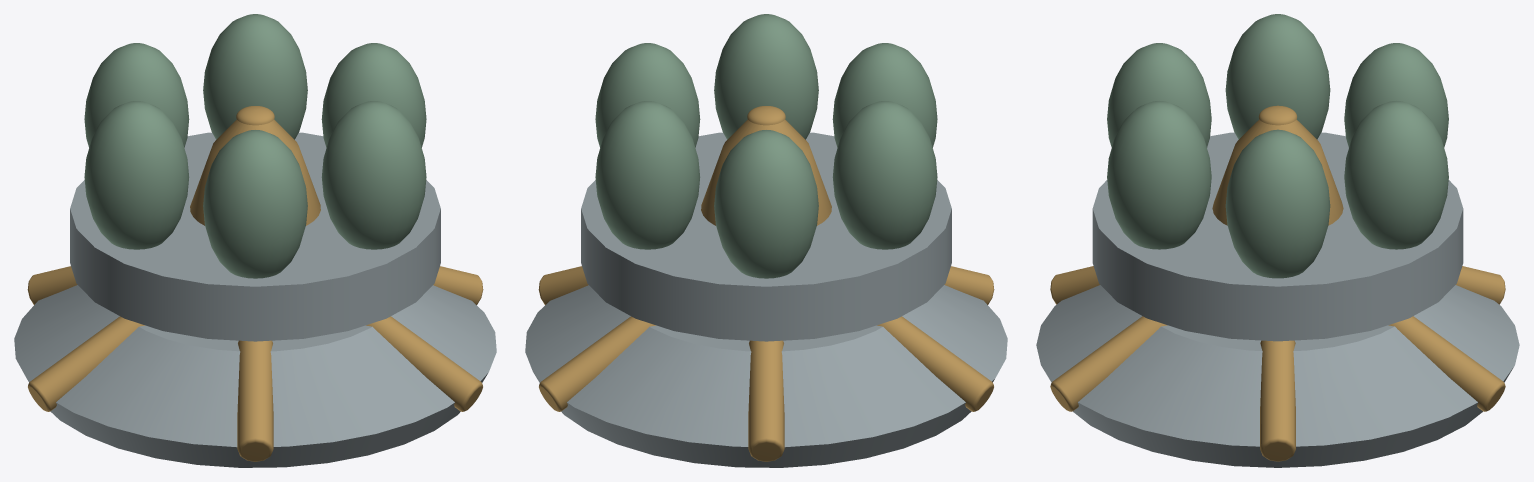
3 renders of one model, left to right at view 1: azimuth 30°, elevation 25°; view 2: azimuth 150°, elevation 25°; view 3: azimuth 270°, elevation 25°, orthographic.
Visible parts, largest first — view 1: Reactor flared base, Reactor raised deck, Reactor cooling vessel.004, Reactor cooling vessel.003, Reactor cooling vessel.005, Reactor cooling vessel.001, Reactor cooling vessel, Reactor cooling vessel.002, Reactor radial conduit.004, Reactor radial conduit.003, Reactor radial conduit.005, Bulb shaped chamber (+3 smaller); view 2: Reactor flared base, Reactor raised deck, Reactor cooling vessel.002, Reactor cooling vessel.001, Reactor cooling vessel.003, Reactor cooling vessel.005, Reactor cooling vessel, Reactor cooling vessel.004, Reactor radial conduit.002, Reactor radial conduit.003, Reactor radial conduit.001, Bulb shaped chamber (+3 smaller); view 3: Reactor flared base, Reactor raised deck, Reactor cooling vessel.001, Reactor cooling vessel.005, Reactor cooling vessel, Reactor cooling vessel.003, Reactor cooling vessel.002, Reactor cooling vessel.004, Reactor radial conduit, Reactor radial conduit.001, Reactor radial conduit.005, Bulb shaped chamber (+3 smaller).
Part boxes in pixels (x1,y1,x2,y2): Reactor flared base: (14,285,496,467); Reactor raised deck: (70,132,440,341); Reactor cooling vessel.004: (203,130,307,278); Reactor cooling vessel.003: (84,101,189,249); Reactor cooling vessel.005: (321,101,426,249); Reactor cooling vessel.001: (203,14,307,139); Reactor cooling vessel: (321,43,426,147); Reactor cooling vessel.002: (84,43,189,147); Reactor radial conduit.004: (237,340,273,461); Reactor radial conduit.003: (28,316,144,411); Reactor radial conduit.005: (366,316,482,411); Bulb shaped chamber: (190,119,320,225); Reactor flared base: (525,285,1007,467); Reactor raised deck: (581,132,951,341); Reactor cooling vessel.002: (714,130,818,278); Reactor cooling vessel.001: (595,101,700,249); Reactor cooling vessel.003: (832,101,937,249); Reactor cooling vessel.005: (714,14,818,139); Reactor cooling vessel: (595,43,700,147); Reactor cooling vessel.004: (832,43,937,147); Reactor radial conduit.002: (748,340,784,461); Reactor radial conduit.003: (877,316,993,411); Reactor radial conduit.001: (539,316,655,411); Bulb shaped chamber: (701,119,831,225); Reactor flared base: (1036,285,1519,467); Reactor raised deck: (1092,132,1463,341); Reactor cooling vessel.001: (1344,101,1448,249); Reactor cooling vessel.005: (1107,101,1211,249); Reactor cooling vessel: (1225,129,1330,278); Reactor cooling vessel.003: (1225,14,1330,139); Reactor cooling vessel.002: (1344,43,1448,147); Reactor cooling vessel.004: (1107,43,1211,147); Reactor radial conduit: (1260,340,1295,461); Reactor radial conduit.001: (1388,316,1505,411); Reactor radial conduit.005: (1050,316,1167,411); Bulb shaped chamber: (1212,119,1343,225).
Size of the model in its own units: 2.56 by 1.63 by 2.4.
